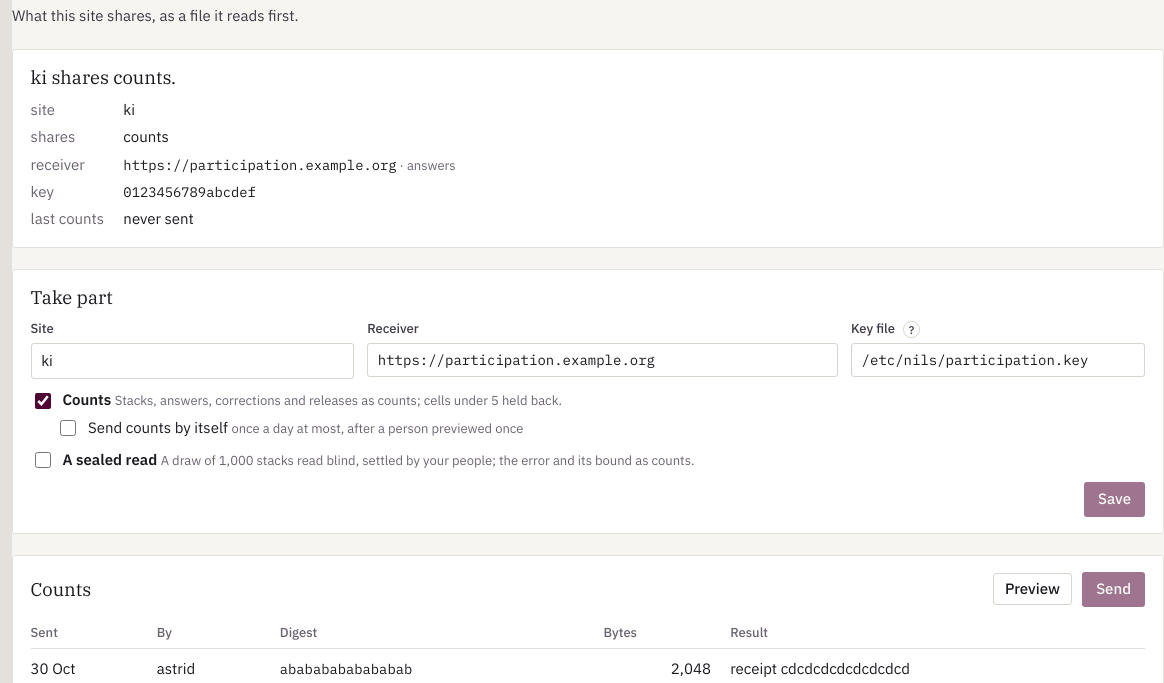
Test: preview and send of the counts › says the error's words where the receiver refused, and lists the sends
Expected: the table shows "astrid", [157, 659, 195, 678]
Expected: the table shows "2,048", [671, 659, 711, 678]
Click the button "Preview" at (1032, 589), box [993, 573, 1072, 605]
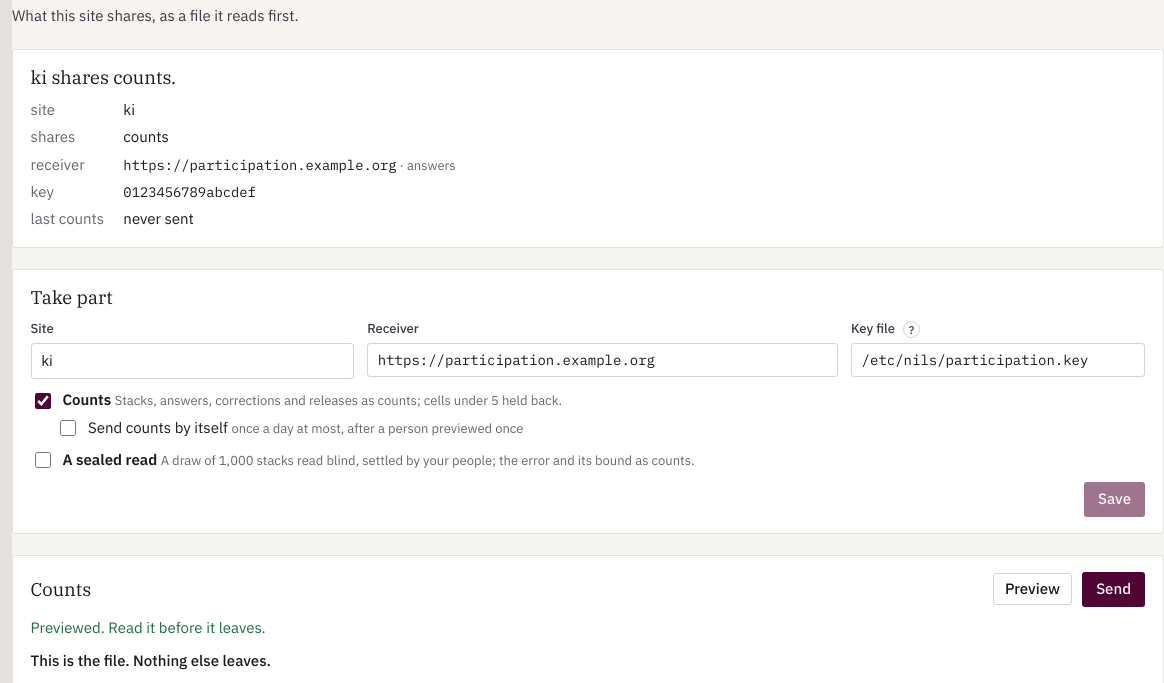
Result: the button "Send" is enabled
Click the button "Send" at (1114, 589), box [1082, 572, 1146, 607]
(page scrolled)
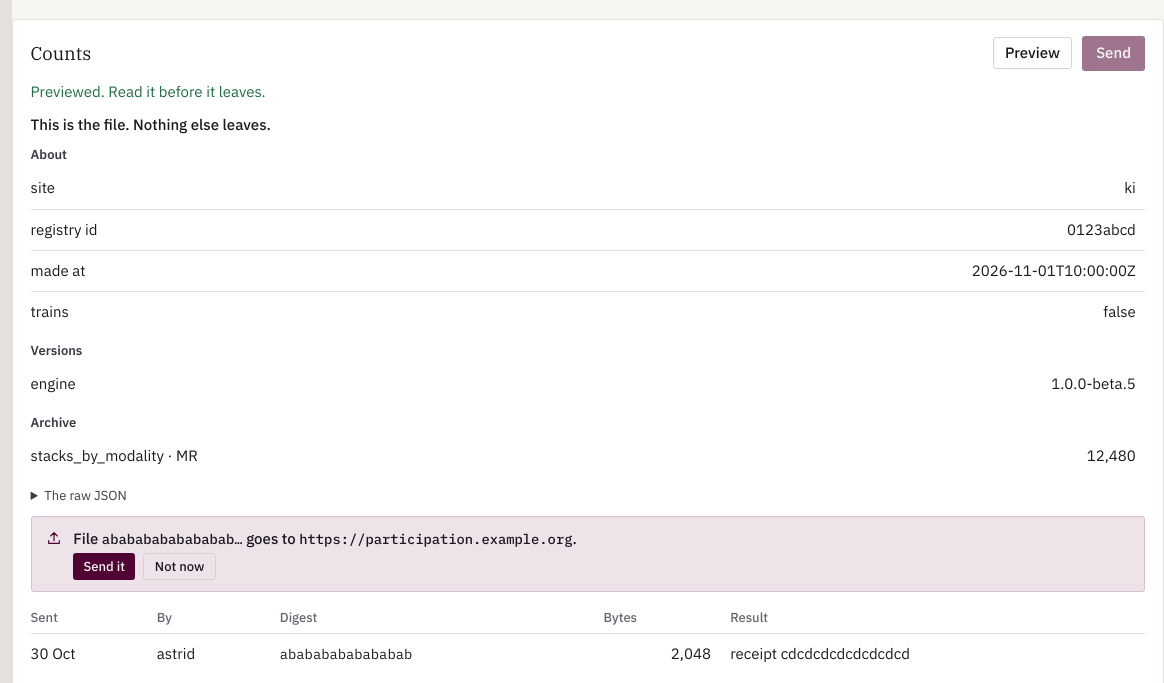
Result: the button "Send it" is shown
Result: the button "Send it" is enabled
Click the button "Send it" at (104, 567), box [73, 554, 136, 580]
(page scrolled)
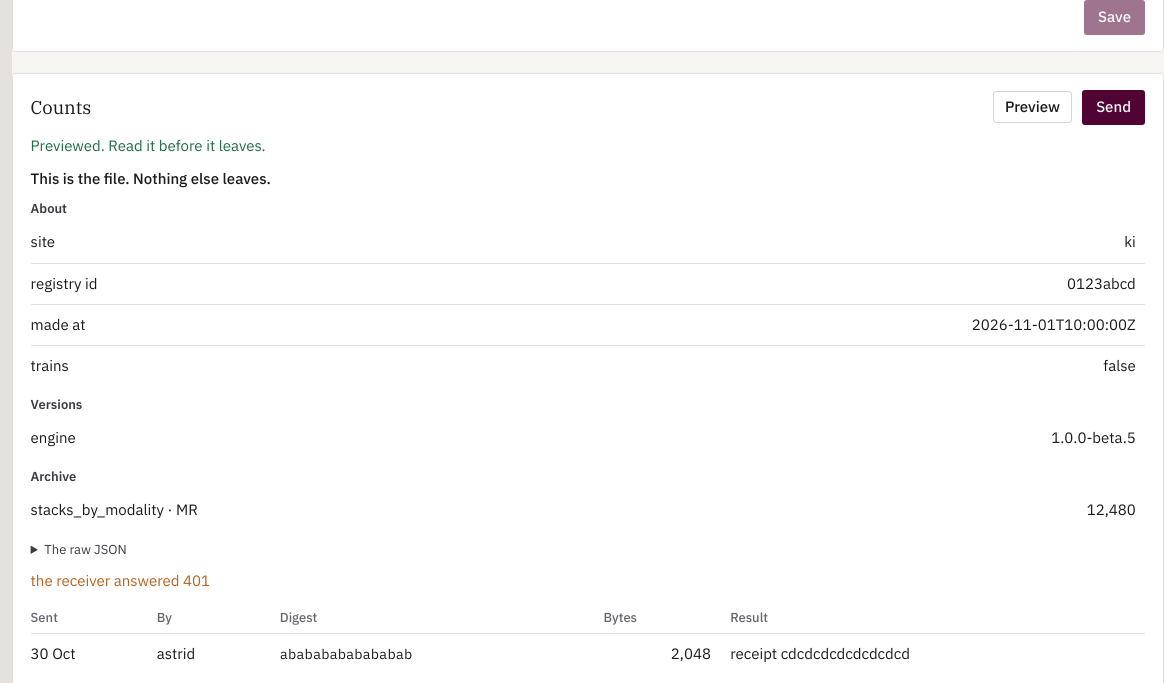
Result: the text with class "warn" reads "the receiver answered 401" at [31, 571, 210, 590]
